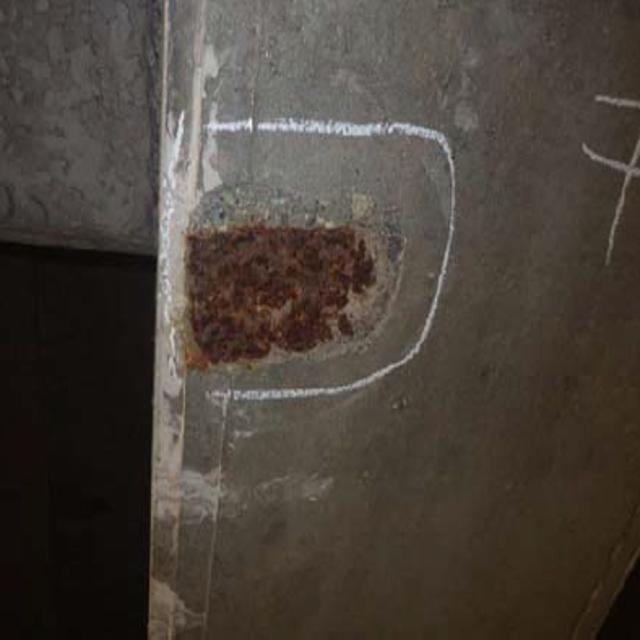spalling: (163, 182, 413, 388)
